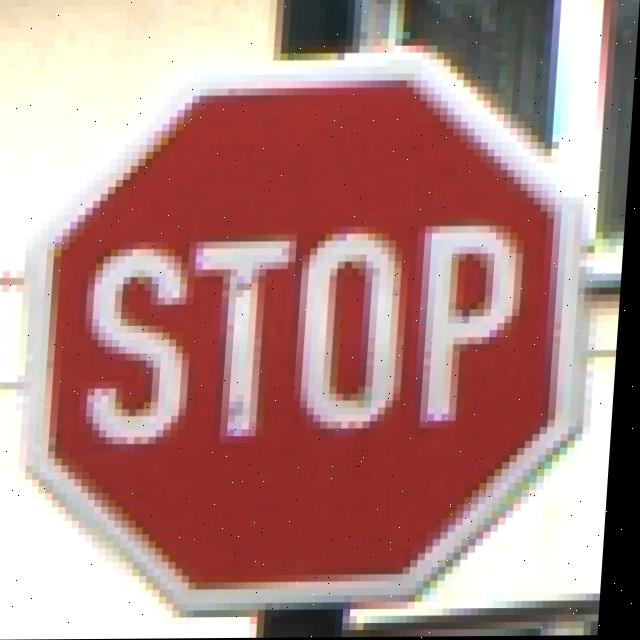stop: (12, 73, 615, 611)
